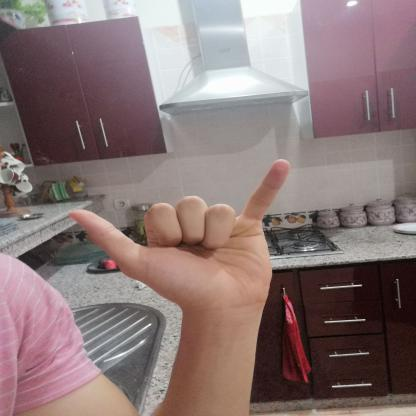YA: (52, 152, 316, 322)
